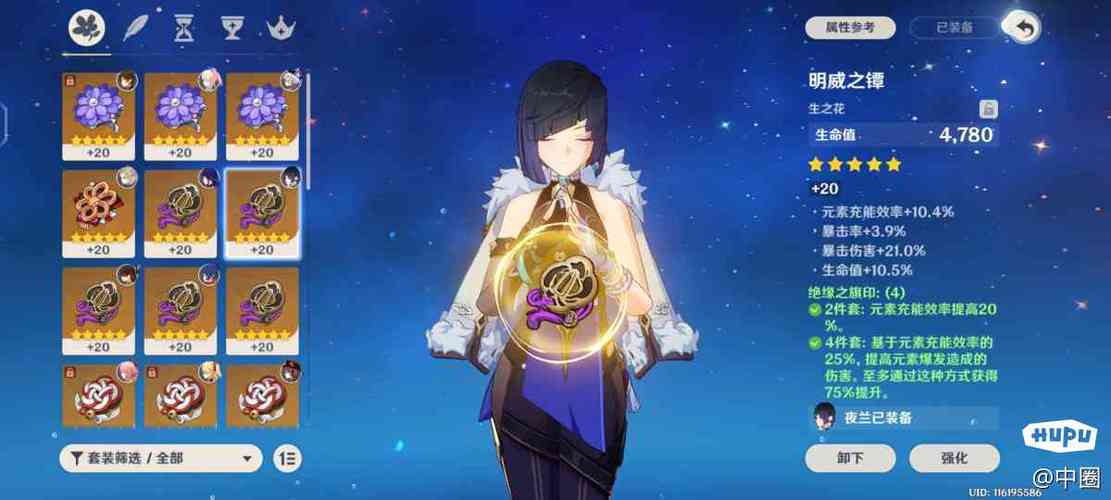夜兰: (417, 67, 698, 500)
